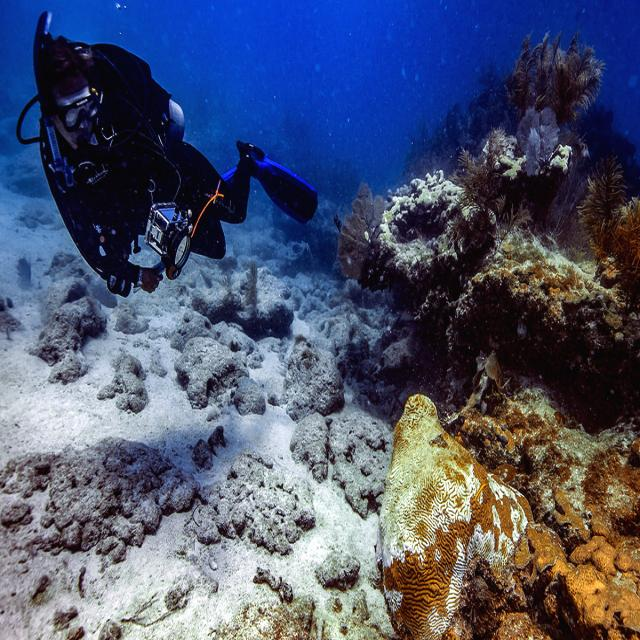Coral: (376, 392, 536, 640), (515, 490, 640, 639)
